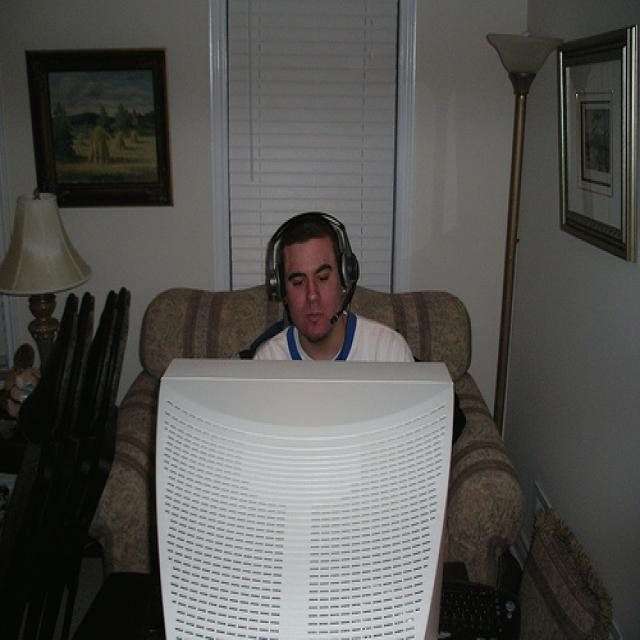chair: (105, 286, 525, 583)
person: (251, 209, 415, 363)
tvmonitor: (155, 356, 457, 639)
